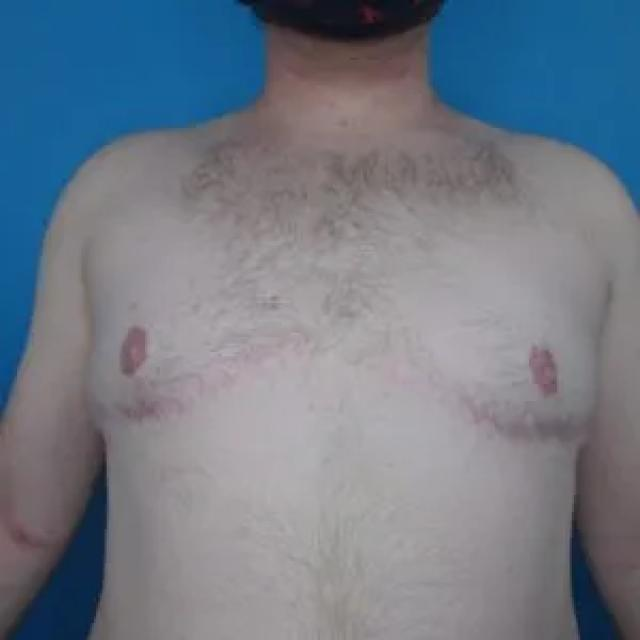Seno herido: (362, 281, 606, 455), (82, 286, 331, 442)
